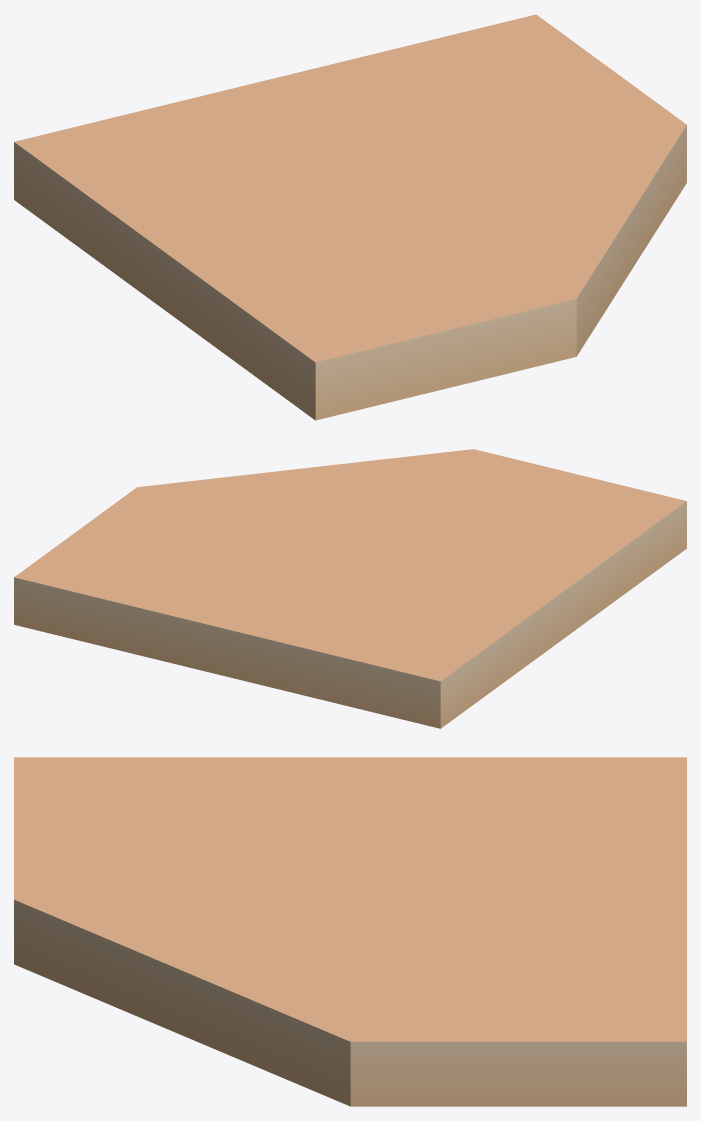
Rendered from kenney-modular-buildings-roof-flat-corner.glb.
3 renders of one model, top to bottom at view 1: azimuth 30°, elevation 25°; view 2: azimuth 150°, elevation 25°; view 3: azimuth 270°, elevation 25°, orthographic. The views are drawn at different scales.
Parts seen in each view (by area): view 1: roof-flat-corner; view 2: roof-flat-corner; view 3: roof-flat-corner.
Boxes of the visible parts, <box> form: roof-flat-corner: <box>14,14,686,420</box>; roof-flat-corner: <box>14,449,686,728</box>; roof-flat-corner: <box>14,757,686,1106</box>.
Size of the model in its own units: 1 by 0.1062 by 1.
1 material, 1 textured.
